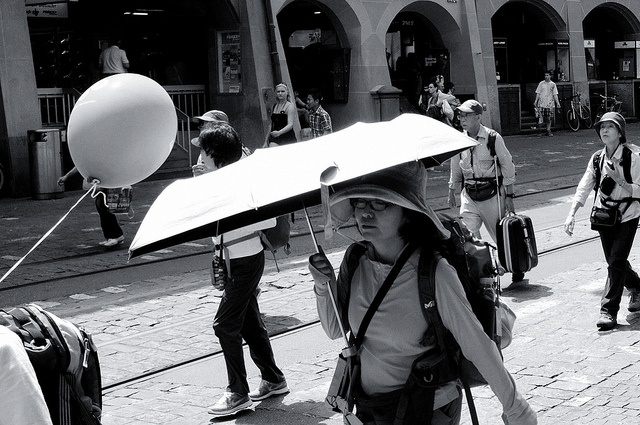non-vehicle: (561, 93, 592, 131), (593, 91, 624, 122)
